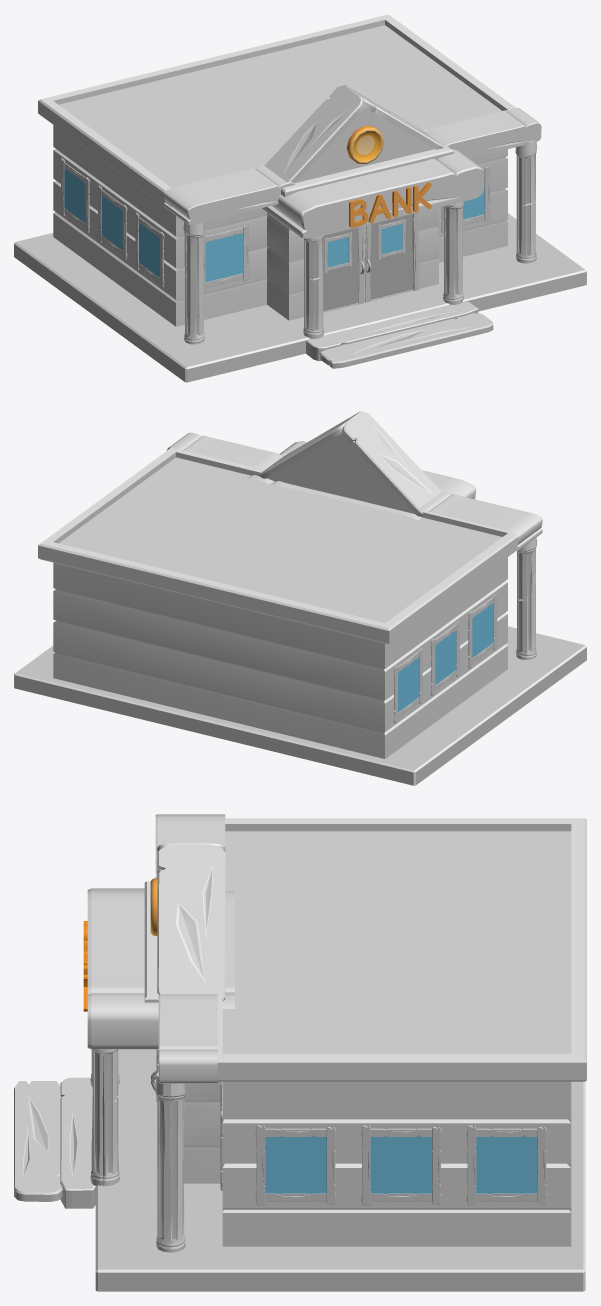
The model's file is Bank (1).fbx.
3 views of the same model, one above another, from view 1: azimuth 30°, elevation 25°; view 2: azimuth 150°, elevation 25°; view 3: azimuth 270°, elevation 25° (orthographic). The views are drawn at different scales.
Visible parts, largest first — view 1: Bank, Coin; view 2: Bank; view 3: Bank.
Part boxes in pixels (<box>): Bank: <box>14,14,586,382</box>; Coin: <box>346,126,383,163</box>; Bank: <box>14,411,586,785</box>; Bank: <box>14,814,586,1291</box>.
Size of the model in its own units: 74.82 by 38.75 by 65.17.
1 material, 1 textured.
